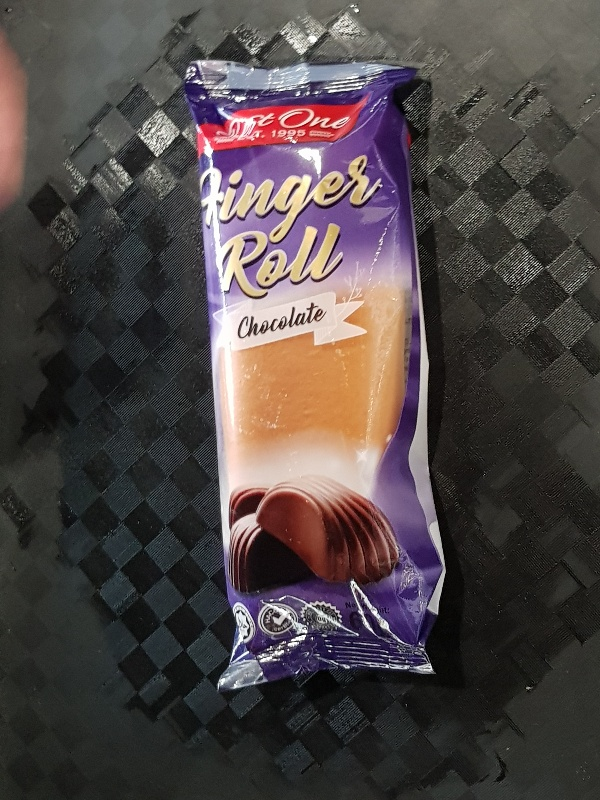Tinges Roll Chocolate: (183, 59, 447, 689)
